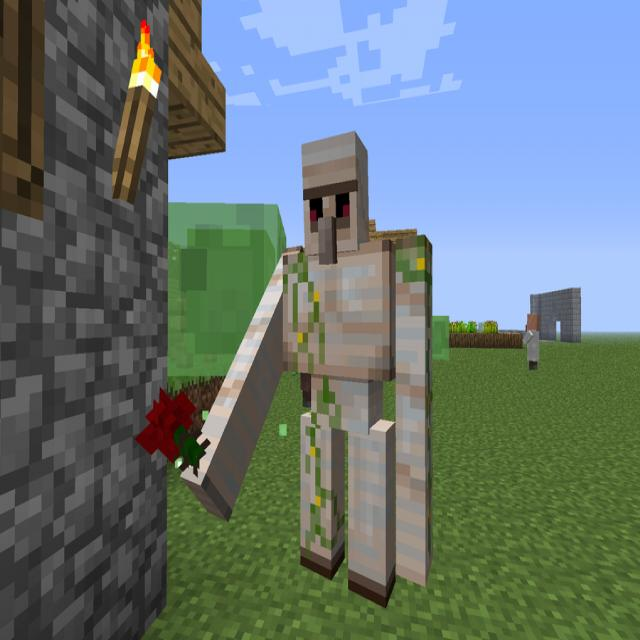Iron Golem: (180, 126, 434, 612)
